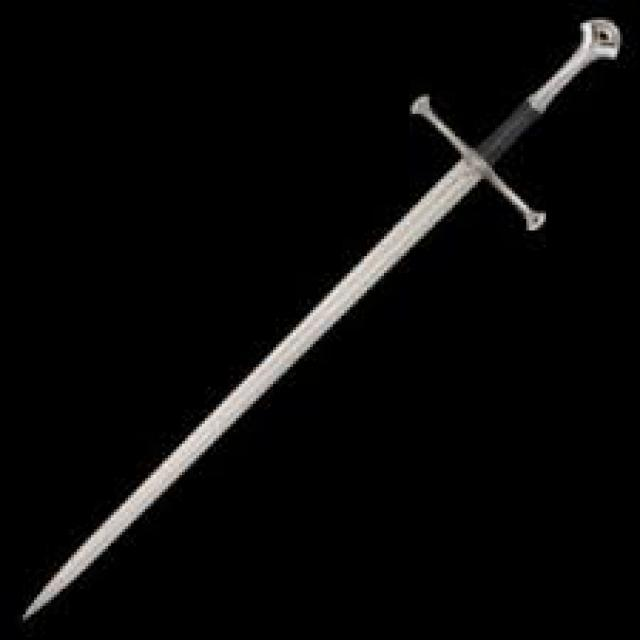long sword: (19, 14, 626, 622)
